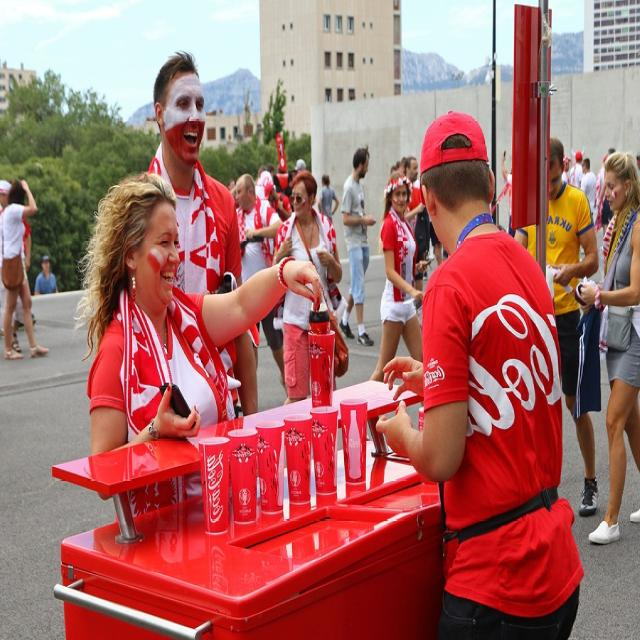coca cola: (459, 304, 561, 441), (202, 444, 228, 532), (423, 359, 448, 388)
